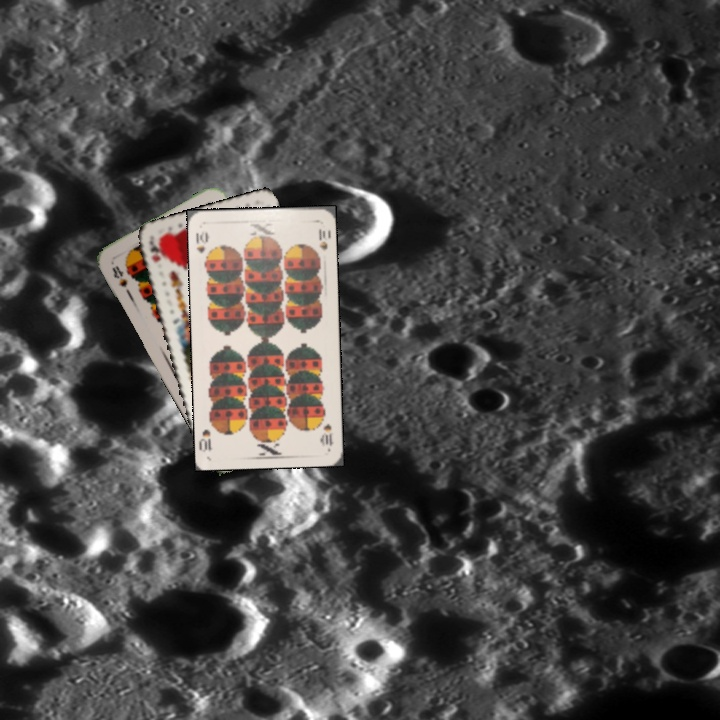HK: (145, 237, 163, 265)
S10: (192, 227, 211, 265), (318, 420, 336, 449)
S8: (108, 261, 130, 290)
